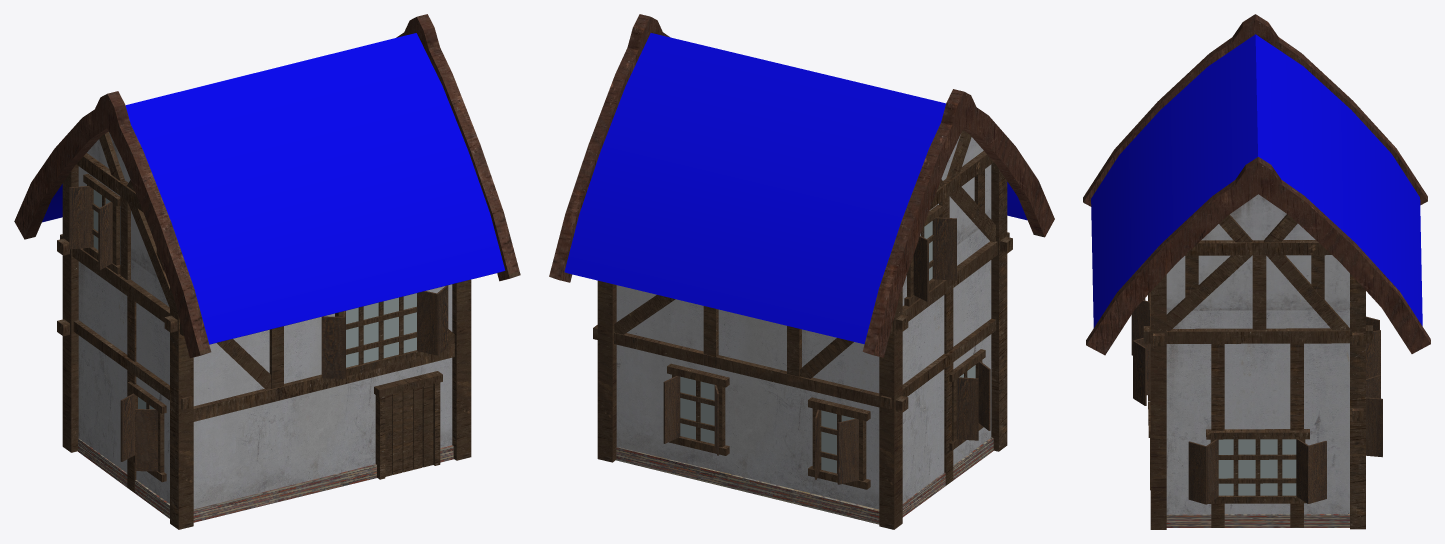
Rendered from casa1.fbx.
The picture shows the model from 3 angles, left to right: view 1: azimuth 30°, elevation 25°; view 2: azimuth 150°, elevation 25°; view 3: azimuth 270°, elevation 25°; orthographic projection. The views are drawn at different scales.
Parts seen in each view (by area): view 1: TEJADO, CASITA, MADERASCASITA, MADERATEJADO, PUERTASVENTANAS, BASECASITA, VENTANAS; view 2: TEJADO, CASITA, MADERASCASITA, MADERATEJADO, PUERTASVENTANAS, BASECASITA, VENTANAS; view 3: TEJADO, CASITA, MADERASCASITA, MADERATEJADO, PUERTASVENTANAS, VENTANAS, BASECASITA.
Boxes of the visible parts, <box> form: TEJADO: <box>42,33,505,344</box>; CASITA: <box>78,132,452,509</box>; MADERASCASITA: <box>57,132,471,529</box>; MADERATEJADO: <box>14,14,520,358</box>; PUERTASVENTANAS: <box>69,186,448,471</box>; BASECASITA: <box>78,438,453,522</box>; VENTANAS: <box>93,189,416,409</box>; TEJADO: <box>564,33,1027,344</box>; CASITA: <box>616,134,991,509</box>; MADERASCASITA: <box>593,130,1012,529</box>; MADERATEJADO: <box>549,14,1054,357</box>; PUERTASVENTANAS: <box>663,217,990,484</box>; BASECASITA: <box>616,437,993,524</box>; VENTANAS: <box>680,221,975,473</box>; TEJADO: <box>1091,34,1422,327</box>; CASITA: <box>1166,194,1349,514</box>; MADERASCASITA: <box>1143,214,1372,529</box>; MADERATEJADO: <box>1083,14,1430,355</box>; PUERTASVENTANAS: <box>1131,298,1382,504</box>; VENTANAS: <box>1218,439,1296,495</box>; BASECASITA: <box>1166,514,1349,527</box>.
Size of the model in its own units: 19.41 by 22.68 by 19.06.
